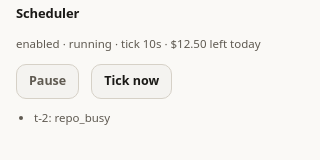
Test: SchedulerCard › pauses and resumes
Expected: the text "enabled · running · tick 10s · $12.50 left today" is shown, [16,36,260,51]
What coordinates should you click on to do the following:
click the button "Pause"
I would click on:
 (48, 81)
Its box is [16,64,79,99].
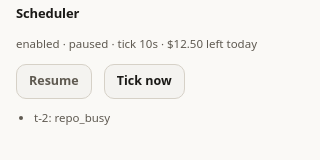
Expected: the button "Resume" is shown, [16,64,92,99]
